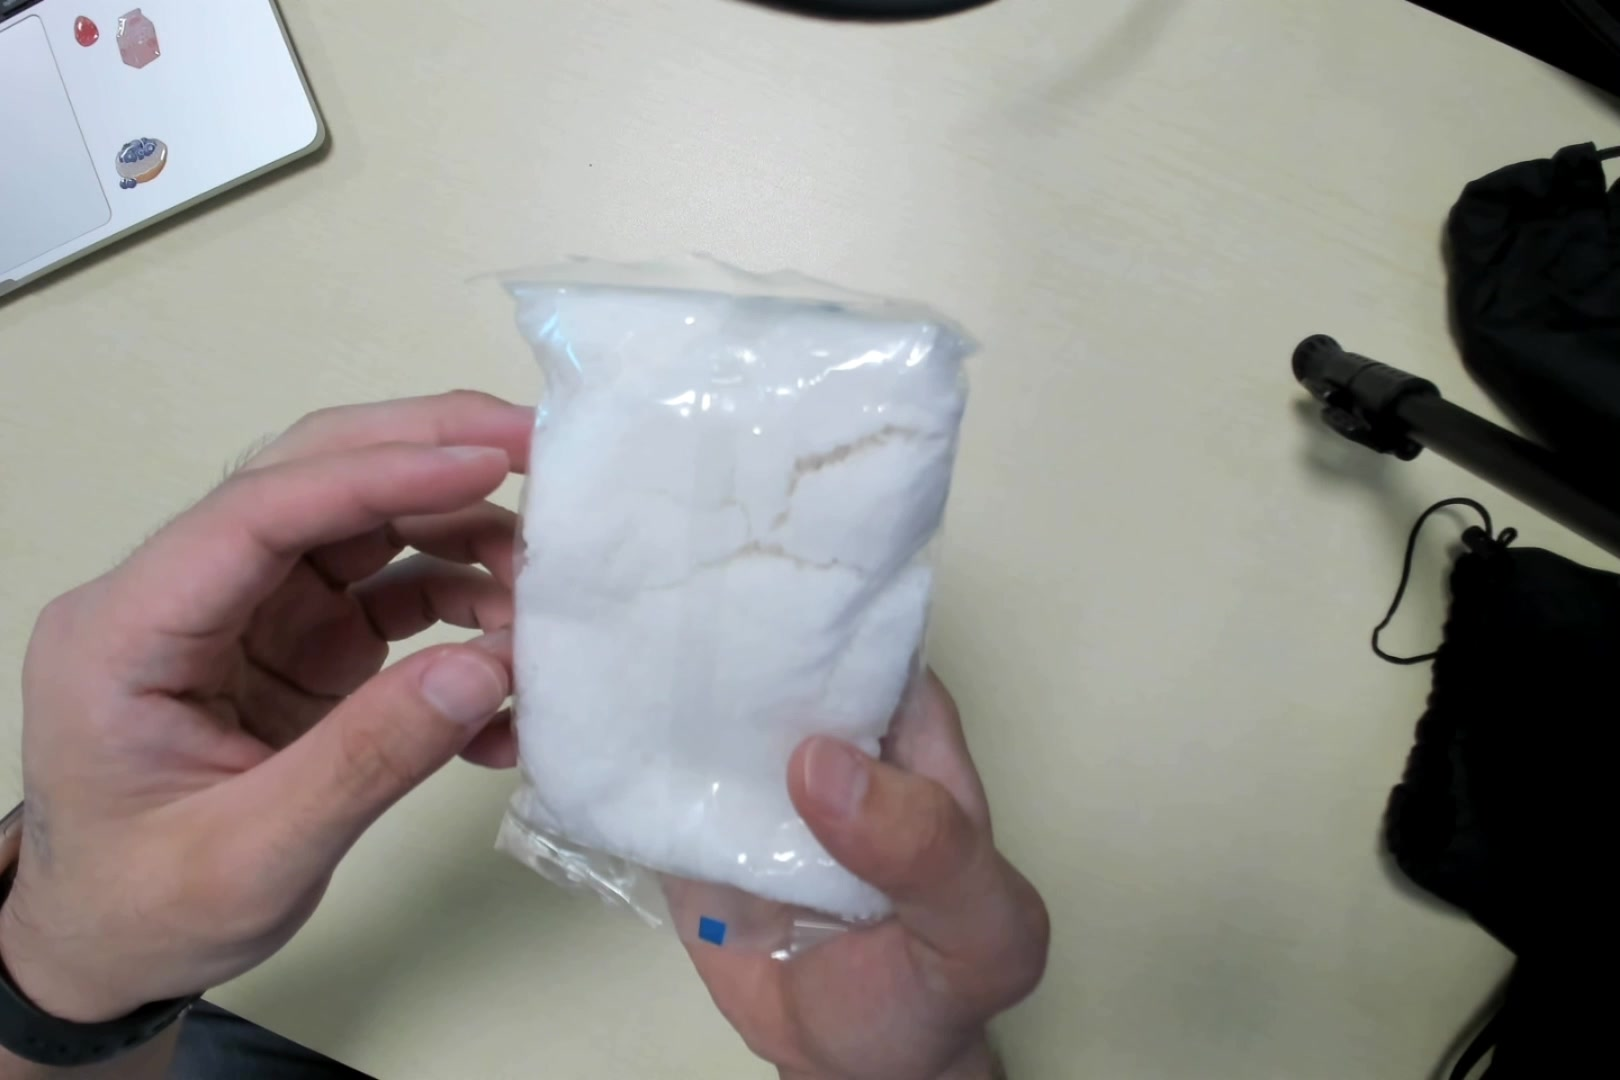Salt_200-299g_Halal_NonHealthy: (500, 256, 947, 937)
